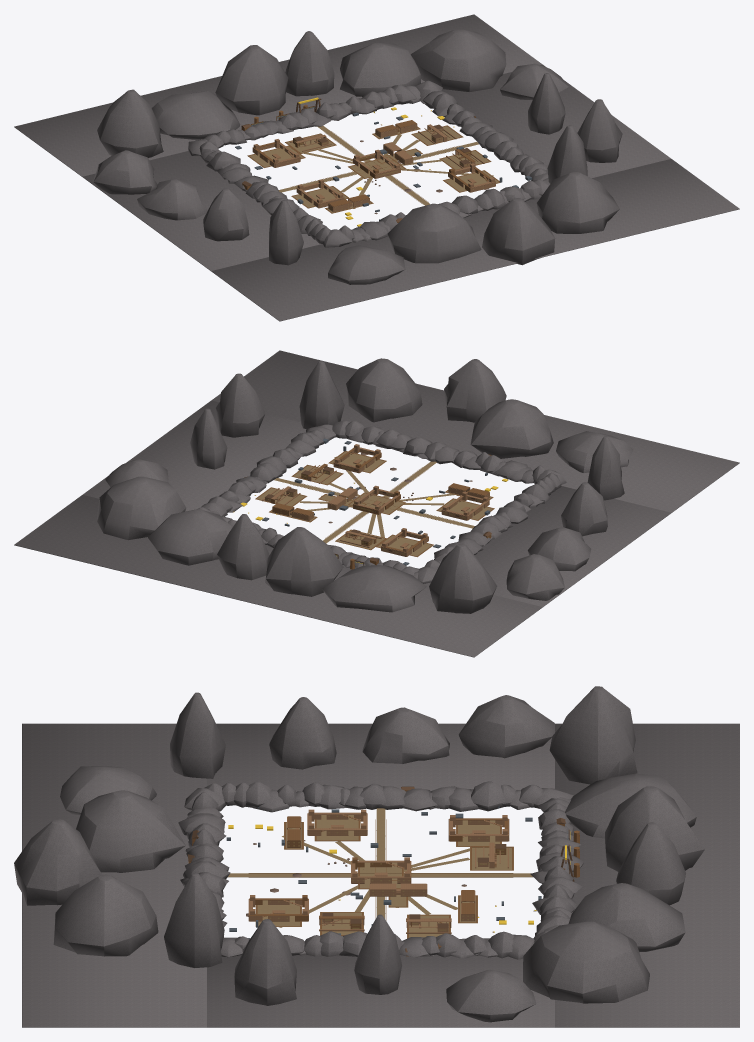
File: saisekiba-lod1.glb
The picture shows the model from 3 angles, top to bottom: view 1: azimuth 30°, elevation 25°; view 2: azimuth 150°, elevation 25°; view 3: azimuth 270°, elevation 25°; orthographic projection. The views are drawn at different scales.
Visible parts, largest first — view 1: HB_saisekiba_LOD1_terrain, HB_saisekiba_LOD1_road, HB_saisekiba_LOD1_wall, HB_saisekiba_LOD1_wall_alt, HB_saisekiba_LOD1_trim, HB_saisekiba_LOD1_obstacle; view 2: HB_saisekiba_LOD1_terrain, HB_saisekiba_LOD1_road, HB_saisekiba_LOD1_wall, HB_saisekiba_LOD1_wall_alt, HB_saisekiba_LOD1_trim; view 3: HB_saisekiba_LOD1_terrain, HB_saisekiba_LOD1_road, HB_saisekiba_LOD1_wall, HB_saisekiba_LOD1_wall_alt, HB_saisekiba_LOD1_trim, HB_saisekiba_LOD1_obstacle.
Boxes of the visible parts, left/top/right/bottom form: HB_saisekiba_LOD1_terrain: left=14, top=14, right=739, bottom=321; HB_saisekiba_LOD1_road: left=248, top=126, right=500, bottom=213; HB_saisekiba_LOD1_wall: left=252, top=124, right=495, bottom=211; HB_saisekiba_LOD1_wall_alt: left=241, top=104, right=499, bottom=222; HB_saisekiba_LOD1_trim: left=241, top=98, right=489, bottom=222; HB_saisekiba_LOD1_obstacle: left=235, top=107, right=532, bottom=221; HB_saisekiba_LOD1_terrain: left=14, top=350, right=739, bottom=657; HB_saisekiba_LOD1_road: left=256, top=451, right=493, bottom=557; HB_saisekiba_LOD1_wall: left=262, top=444, right=489, bottom=556; HB_saisekiba_LOD1_wall_alt: left=233, top=447, right=494, bottom=569; HB_saisekiba_LOD1_trim: left=244, top=451, right=491, bottom=565; HB_saisekiba_LOD1_terrain: left=14, top=686, right=739, bottom=1027; HB_saisekiba_LOD1_road: left=228, top=808, right=532, bottom=938; HB_saisekiba_LOD1_wall: left=248, top=809, right=508, bottom=933; HB_saisekiba_LOD1_wall_alt: left=188, top=790, right=579, bottom=956; HB_saisekiba_LOD1_trim: left=187, top=786, right=574, bottom=955; HB_saisekiba_LOD1_obstacle: left=226, top=805, right=568, bottom=938.
Bounding box in the file's own units: 668 × 85.88 × 668.
9 materials, 8 textured.
